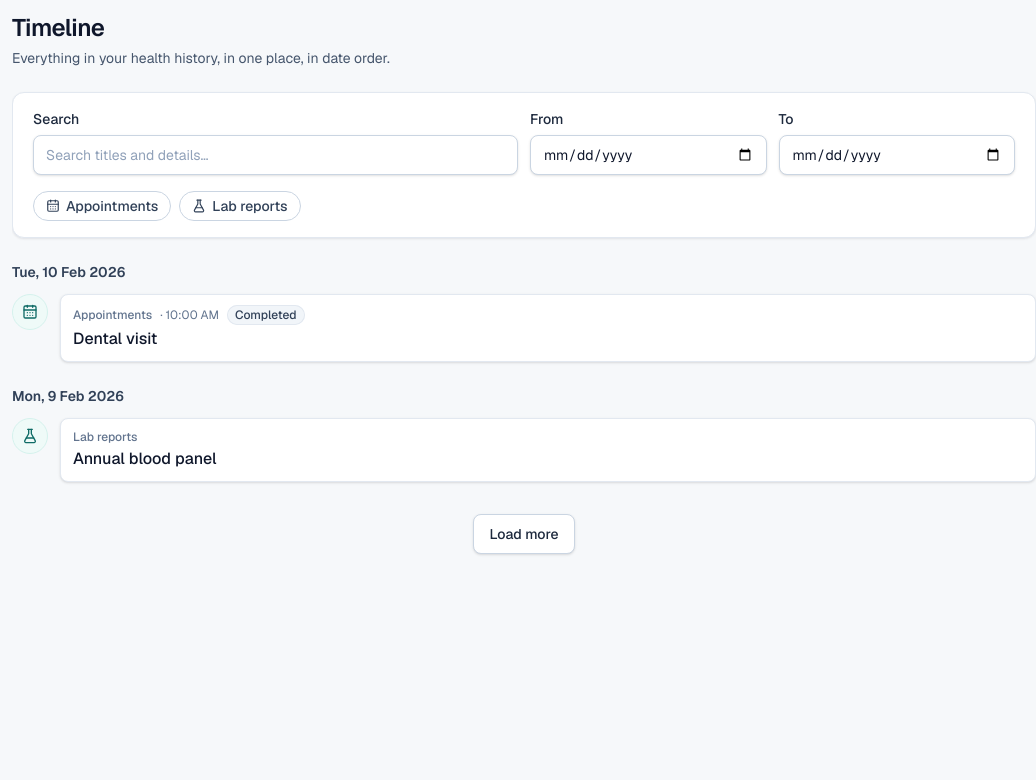
Scenario: TimelinePage › renders day groups and loads more with next_cursor
expect the text "Dental visit" is shown: met, box [73,328,157,349]
expect the heading "Tue, 10 Feb 2026" is shown: met, box [12,263,125,281]
Click the button "Load more".
click(524, 534)  # box [472,514,576,554]
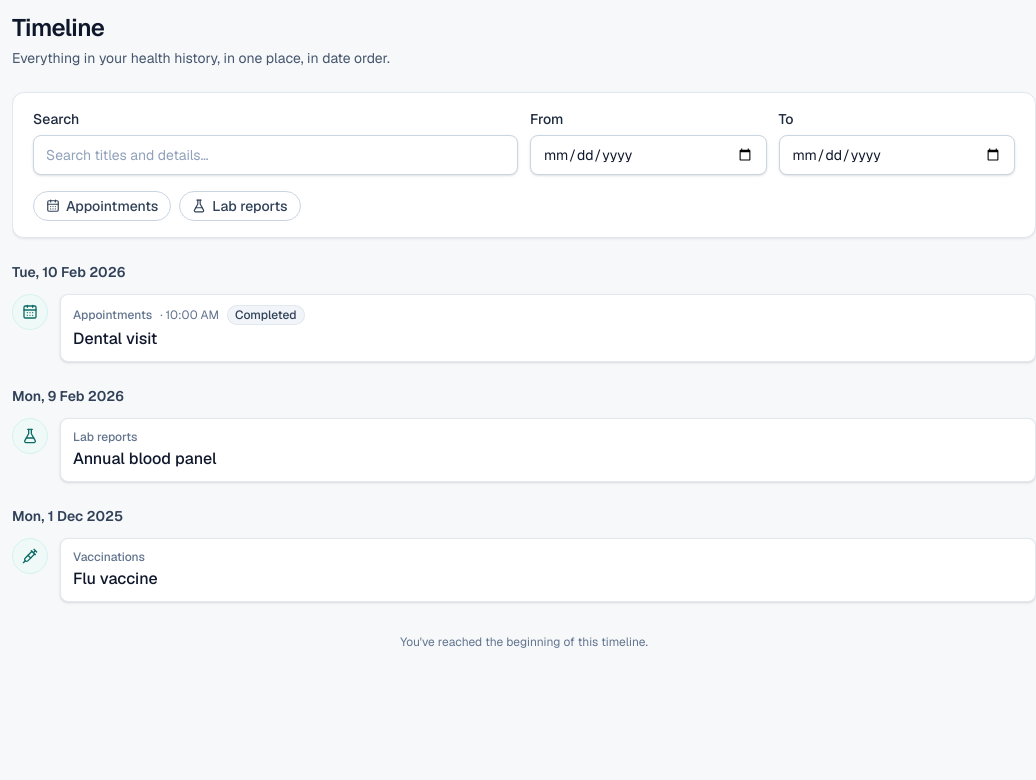
expect the text "Flu vaccine" is shown: met, box [73,568,158,589]
expect the heading "Mon, 1 Dec 2025" is shown: met, box [12,507,123,525]
expect the button "Load more" is gone: met
